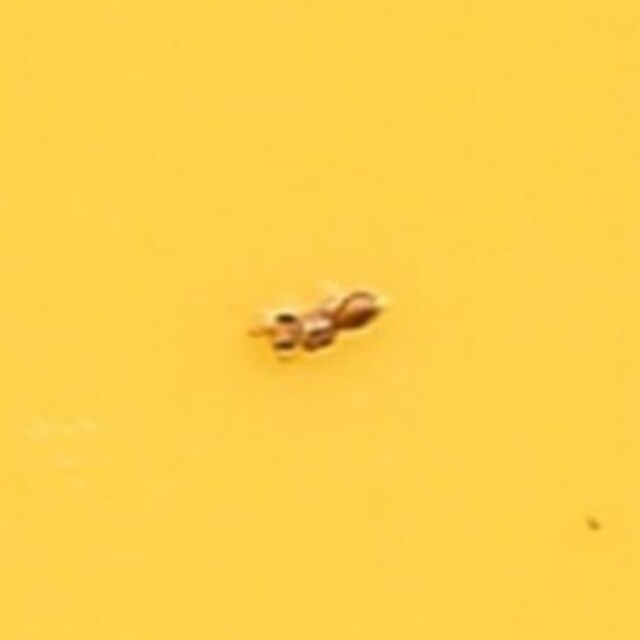Hymenoptera: (250, 275, 390, 365)
